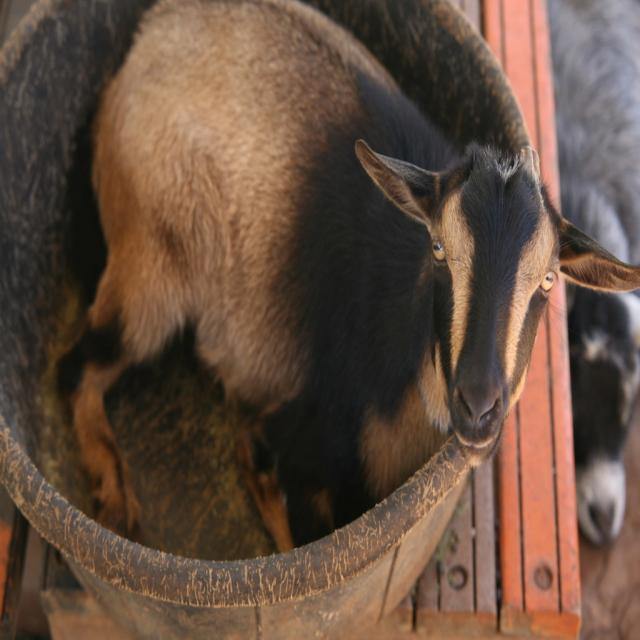Goat: (54, 0, 638, 558), (545, 0, 639, 547)
